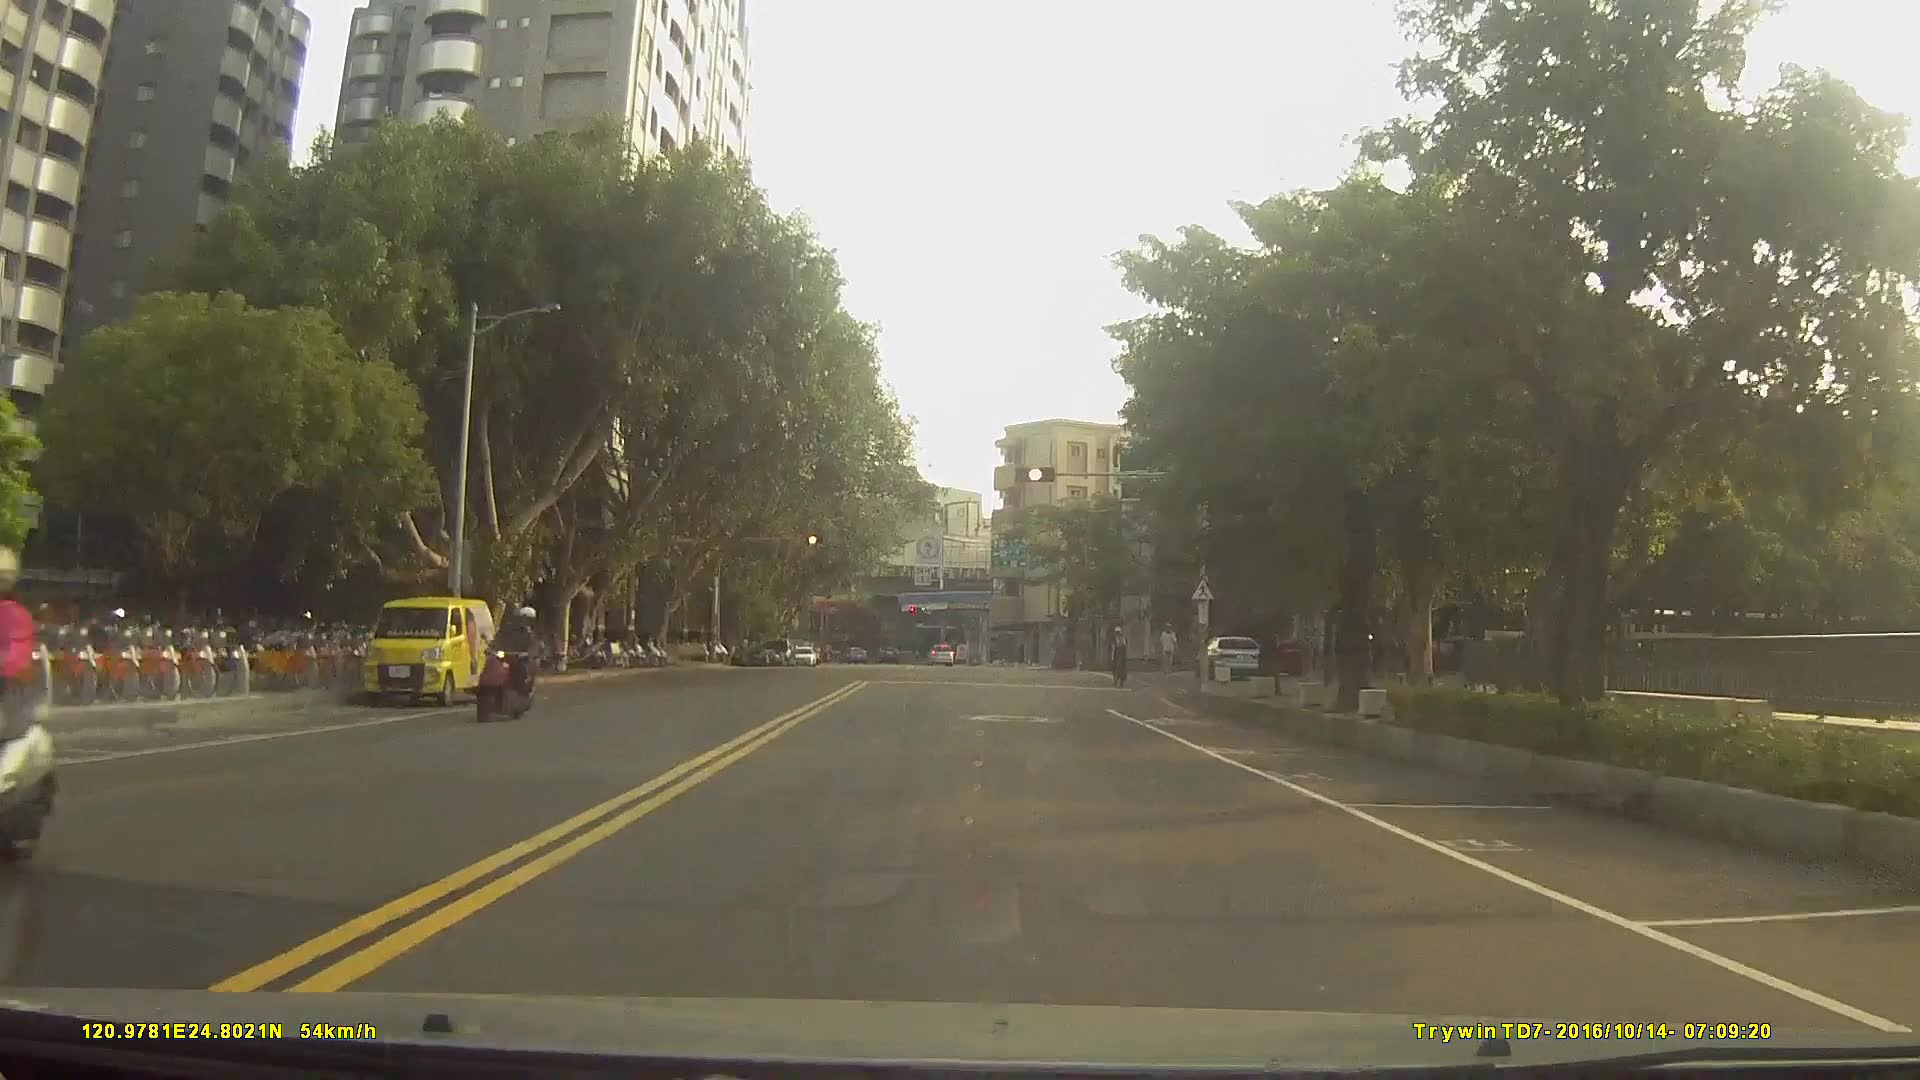pedestrian: (1160, 618, 1180, 677)
rider: (1, 538, 56, 876), (477, 604, 543, 722), (1110, 619, 1133, 679)
vehicle: (1193, 635, 1263, 679), (789, 644, 819, 666), (930, 643, 954, 666)
